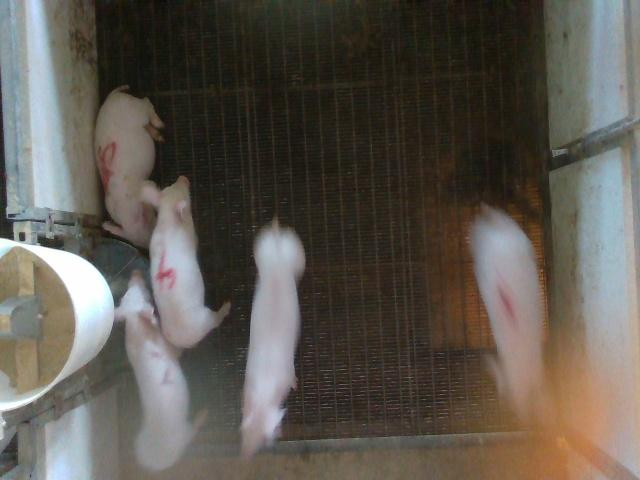pig-1: (470, 204, 544, 416)
pig-2: (115, 270, 195, 471)
pig-4: (141, 176, 231, 348)
pig-5: (95, 85, 164, 247)
